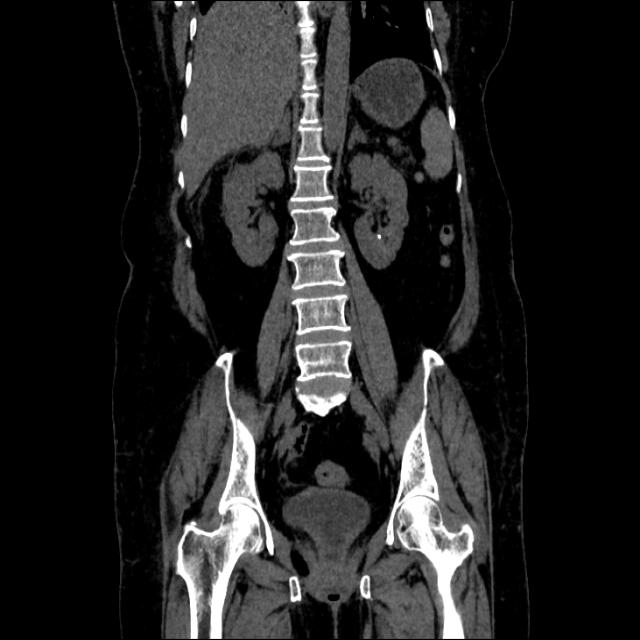kidneystone: (376, 233, 382, 240)
